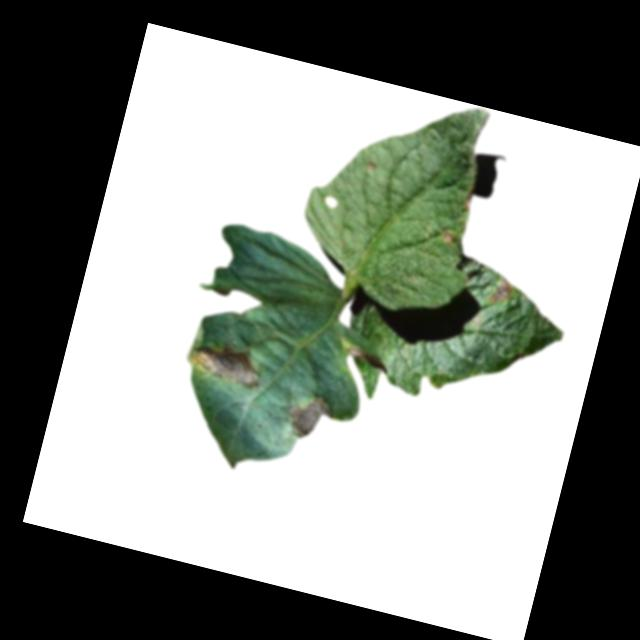Early_blight: (187, 331, 265, 392), (282, 387, 337, 446), (345, 343, 394, 376), (487, 275, 513, 308), (460, 190, 476, 214), (440, 228, 455, 245)
